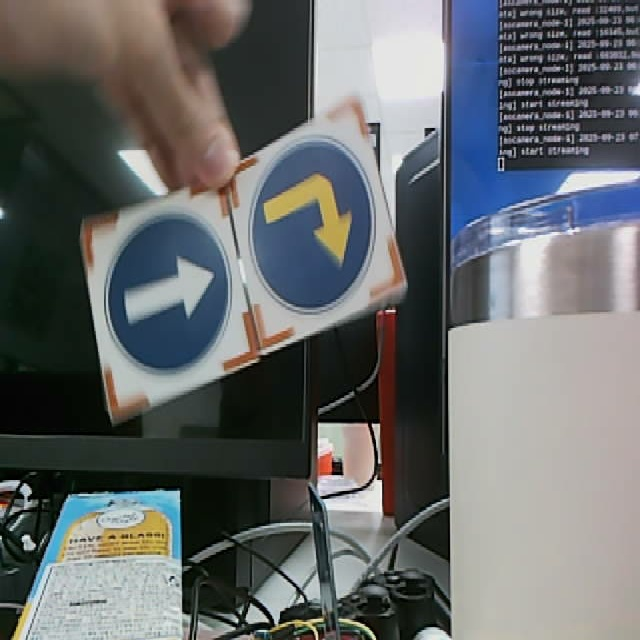right: (227, 105, 402, 356)
straight: (82, 186, 259, 423)
